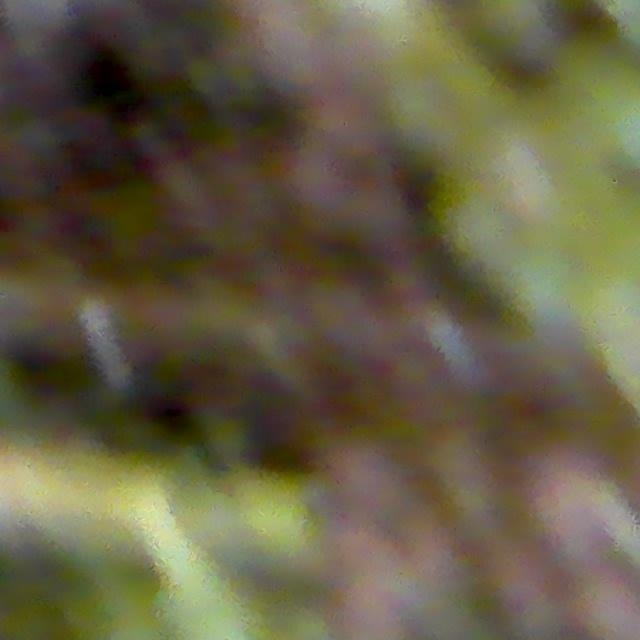SeaGrape: (461, 0, 562, 64)
